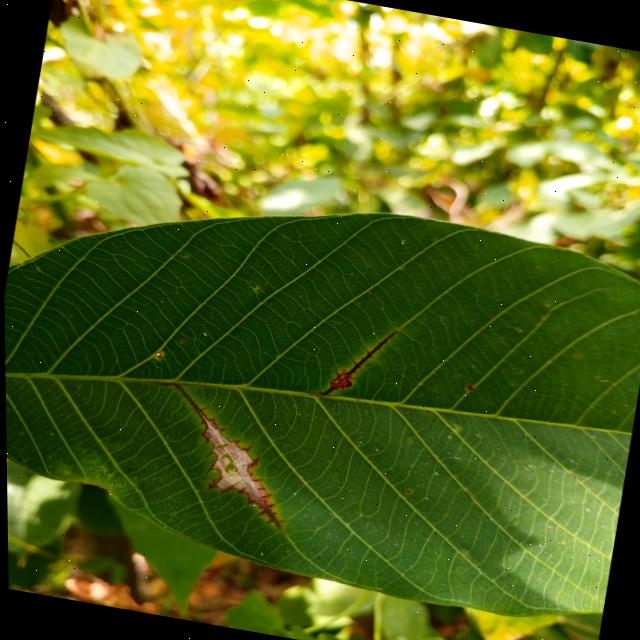Colletotrichum: (177, 339, 184, 344), (154, 352, 161, 356)
Corynespora: (150, 382, 304, 530), (317, 319, 398, 406)
